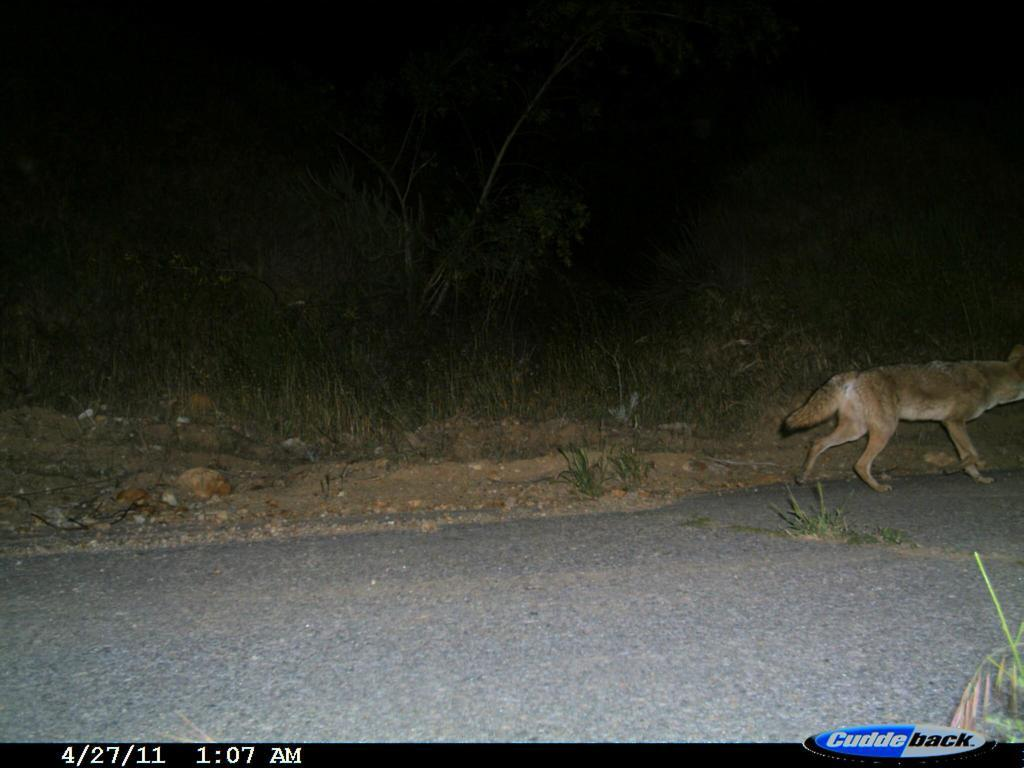coyote: (770, 338, 1023, 500)
